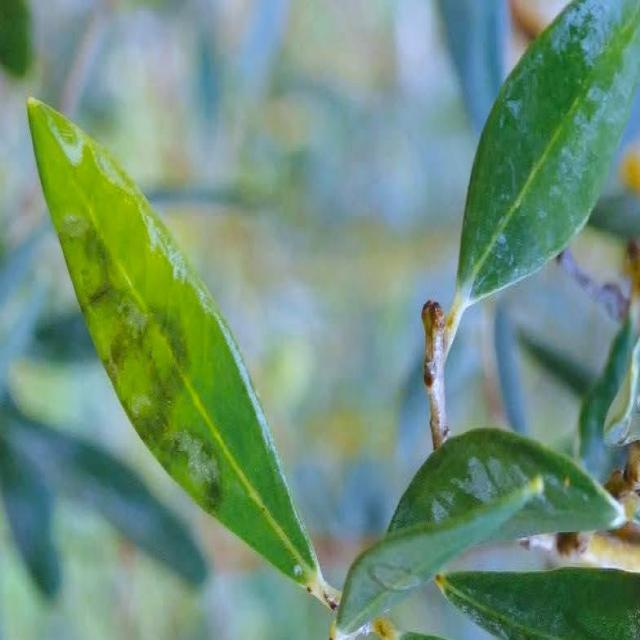OlivePeacockSpot: (28, 102, 336, 610)
